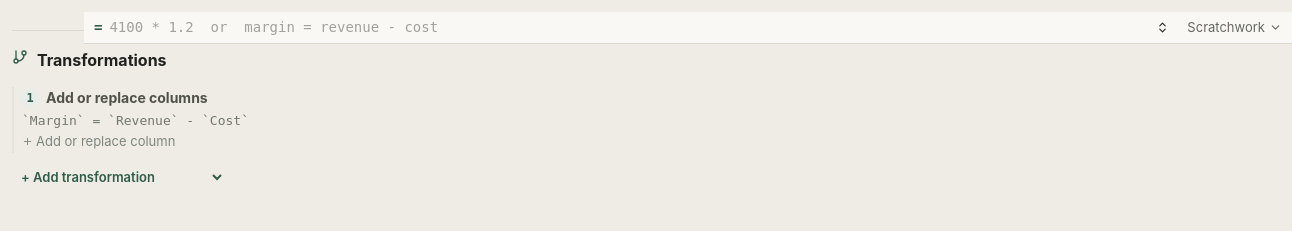
it: PipelineEditor formula sessions › keeps a session whose draft does not parse, and says what is missing
Click the button "`Margin` = `Revenue` - `Cost`". click: (135, 120)
box: [21,111,1270,130]
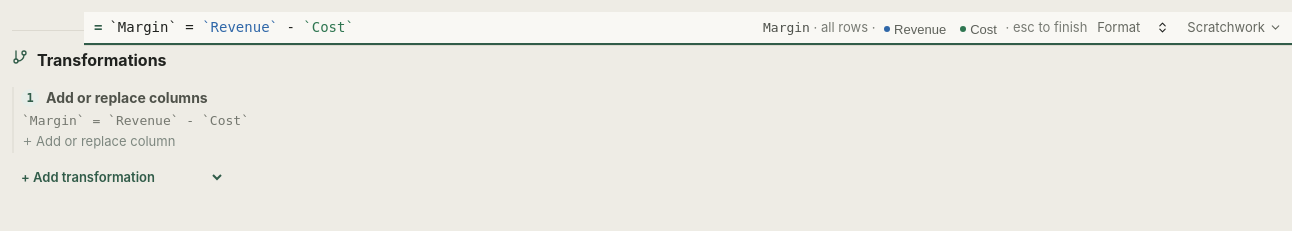
Replace the text in the text box named "Edit Margin" with "Revenue - Cost". click: (433, 28)
box: [109,14,756,41]
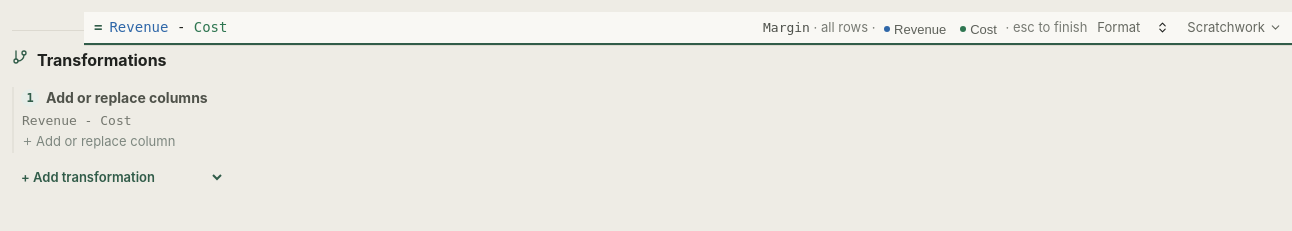
Press Enter in the text box named "Edit Margin", box [109,14,756,41]
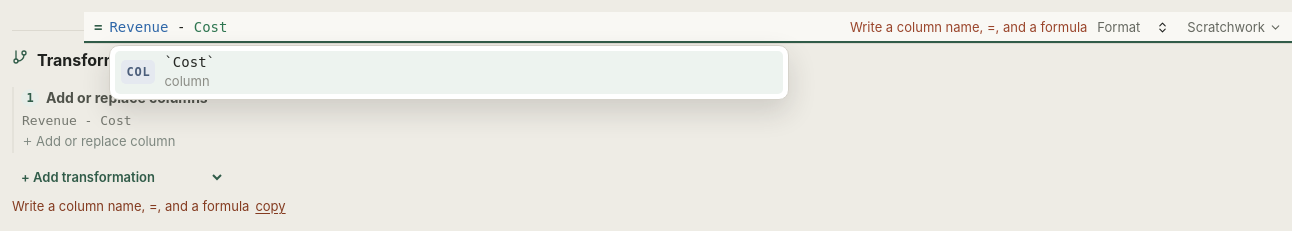
Check: the text "Write a column name, =, and a formula" is shown, box [850,19,1087,35]
